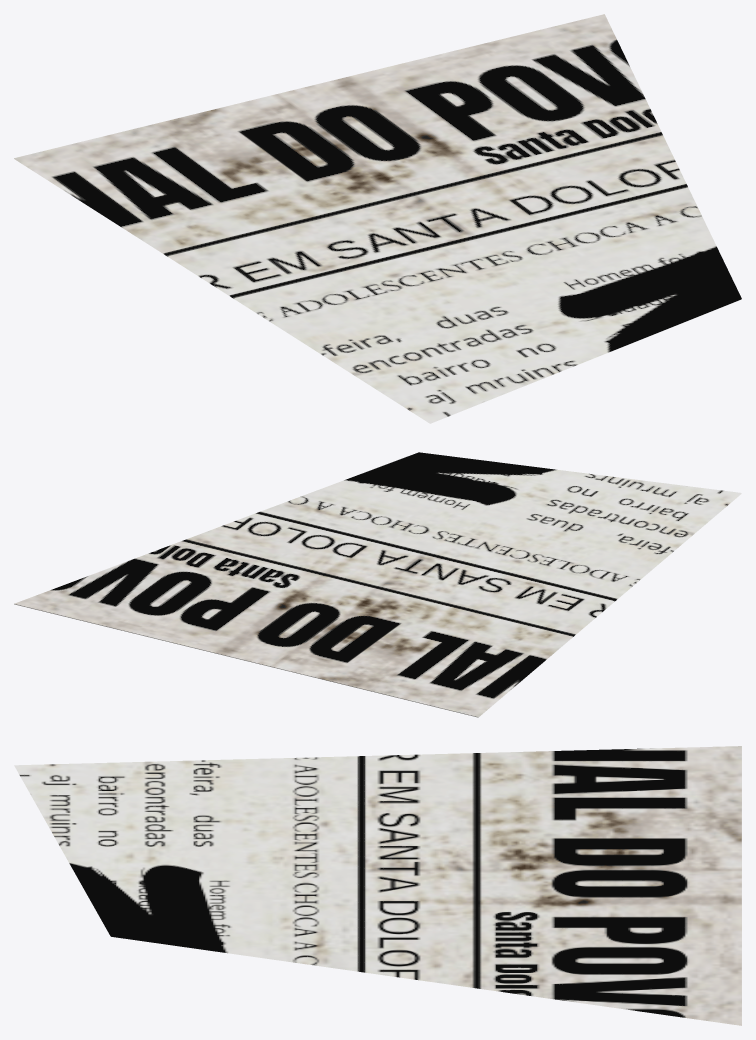
File: cellfracture6.glb
3 renders of one model, top to bottom at view 1: azimuth 30°, elevation 25°; view 2: azimuth 150°, elevation 25°; view 3: azimuth 270°, elevation 25°, orthographic. The views are drawn at different scales.
Parts seen in each view (by area): view 1: Plane.004; view 2: Plane.004; view 3: Plane.004.
Part boxes in pixels (x1,y1,x2,y2): Plane.004: [14, 14, 741, 423]; Plane.004: [14, 452, 741, 717]; Plane.004: [14, 746, 741, 1025].
Size of the model in its own units: 0.85 by 0.001 by 0.9367.
Materials: 1 (1 with a texture image).
